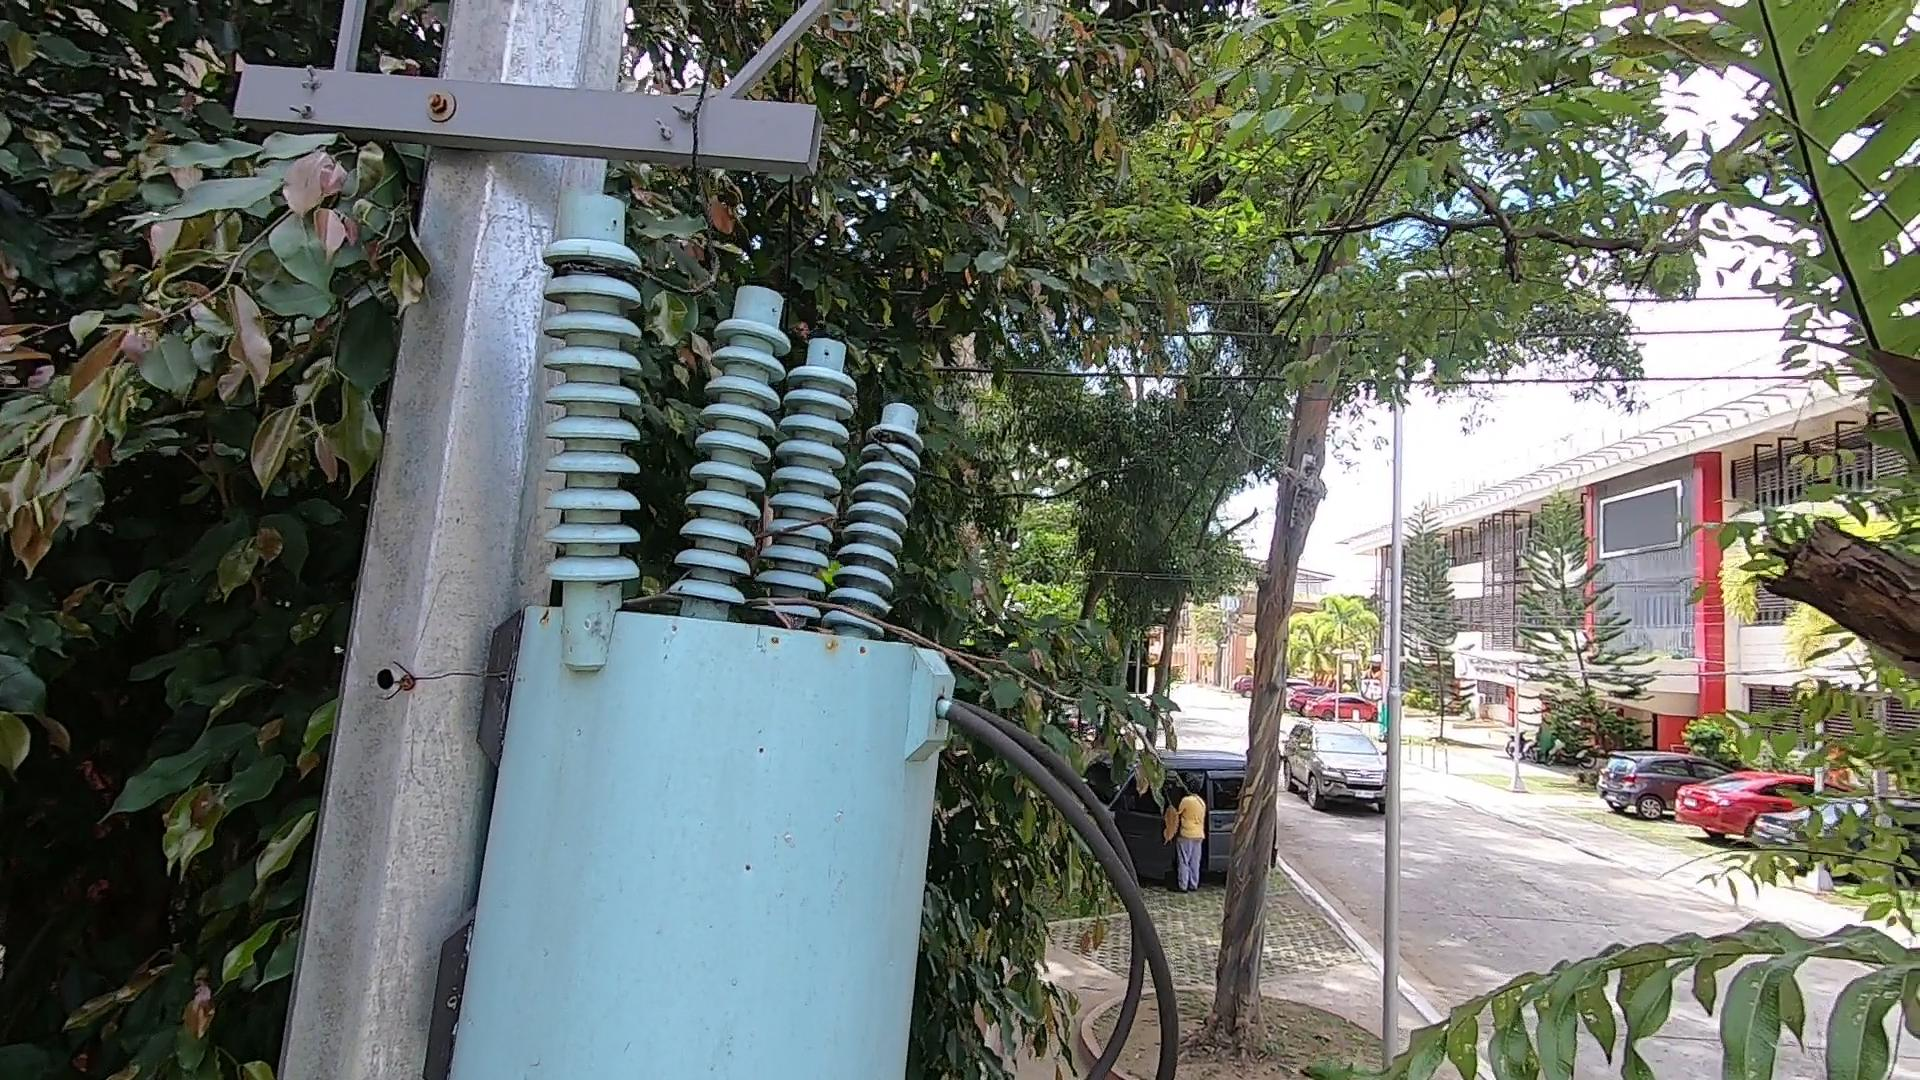leaf: (744, 593, 806, 628)
tree branch: (719, 574, 1091, 752)
